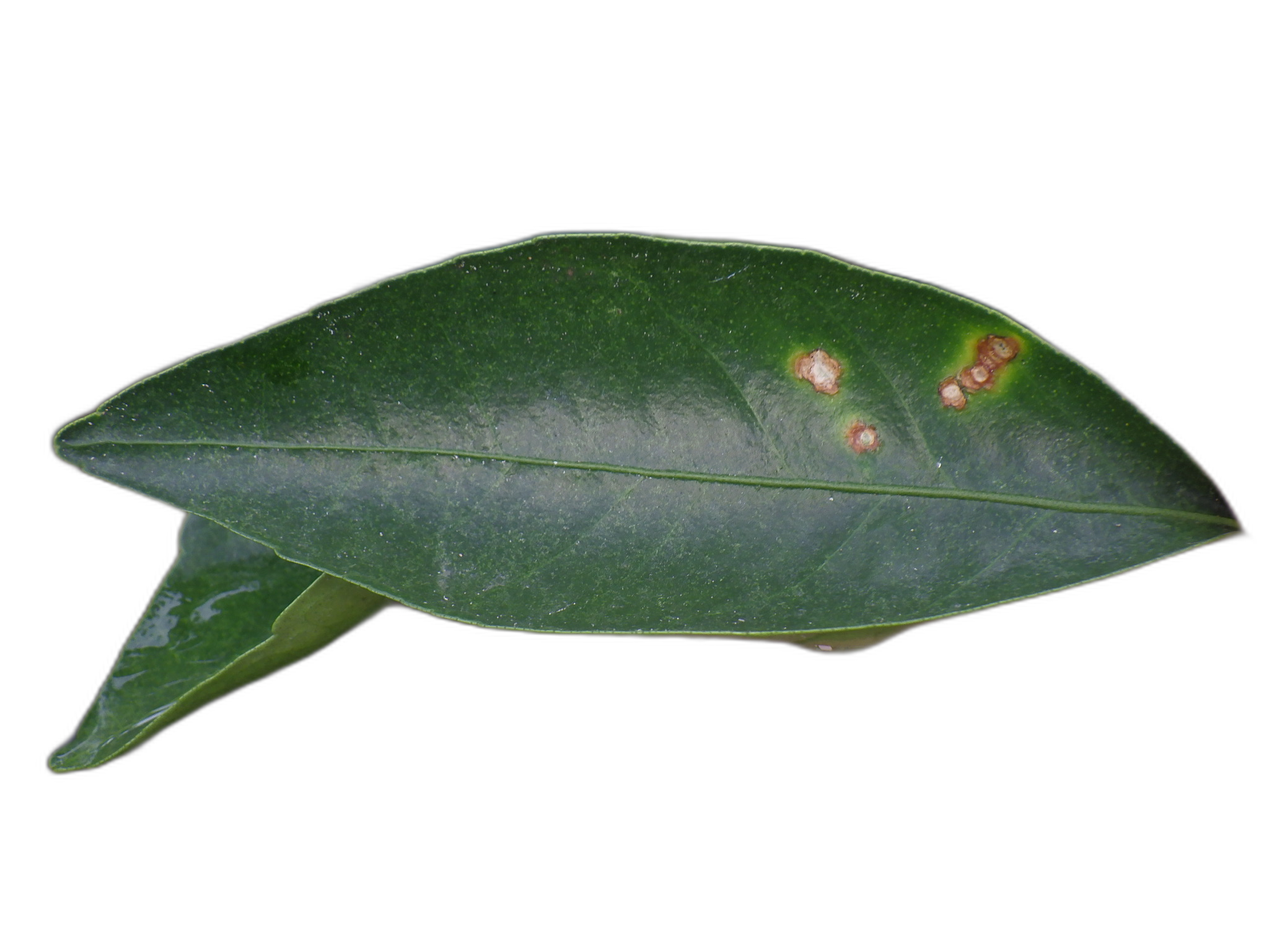Canker: (937, 335, 1022, 411), (793, 347, 844, 395), (845, 420, 880, 453)
